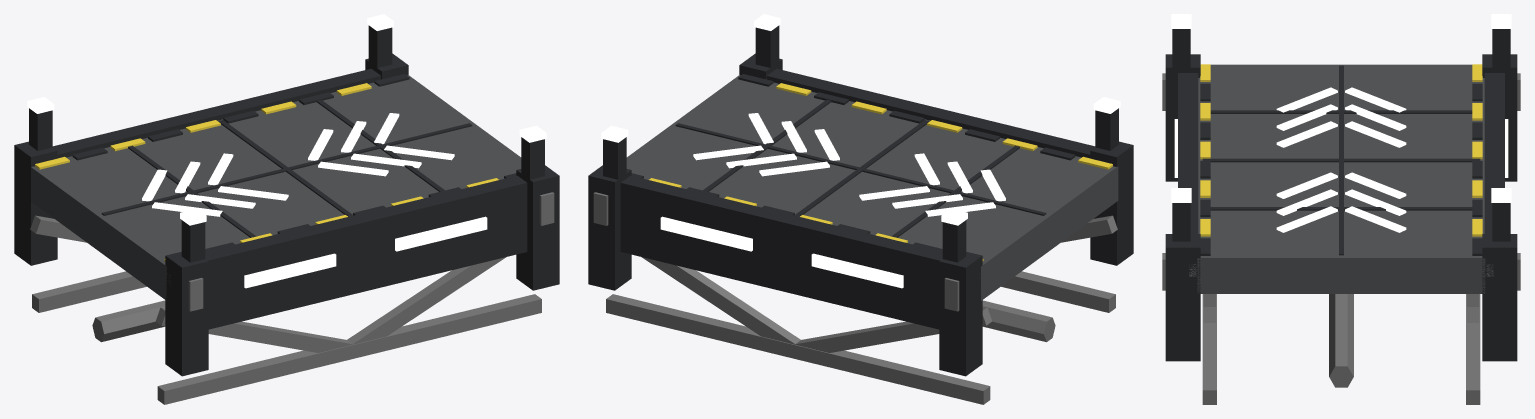
Rendered from Deck_Retract_v2.glb.
The picture shows the model from 3 angles, left to right: view 1: azimuth 30°, elevation 25°; view 2: azimuth 150°, elevation 25°; view 3: azimuth 270°, elevation 25°; orthographic projection. The views are drawn at different scales.
Visible parts, largest first — view 1: Deck_Retract_v2; view 2: Deck_Retract_v2; view 3: Deck_Retract_v2.
Boxes of the visible parts, <box> form: Deck_Retract_v2: <box>14,14,559,404</box>; Deck_Retract_v2: <box>588,14,1133,404</box>; Deck_Retract_v2: <box>1162,14,1520,404</box>.
Size of the model in its own units: 4.05 by 1.96 by 3.13.
